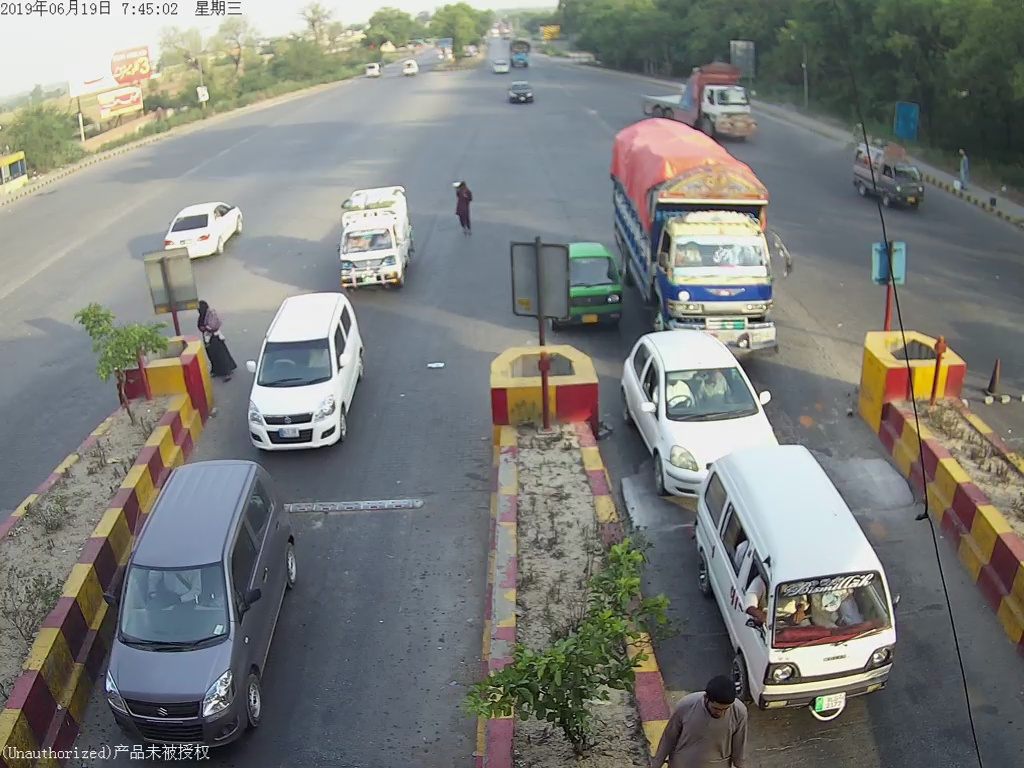Cat-1: (102, 458, 307, 732), (704, 470, 924, 676), (621, 332, 782, 436), (253, 288, 358, 447), (334, 183, 412, 285)
Cat-4: (616, 129, 795, 322)
